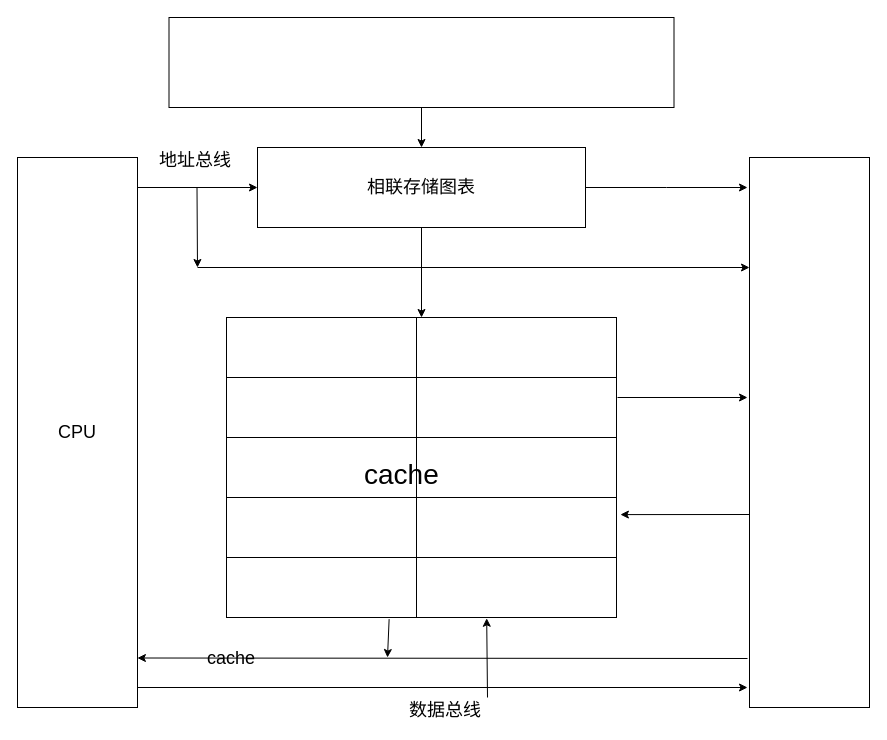
The diagram is 887 pixels wide and 740 high, and some of its shapes have lost their labels. Here are the shapes that lost their labels. From the top down, the box of each, then its label:
(168, 16, 674, 108): LRU 管理逻辑
(748, 156, 870, 708): 主存
